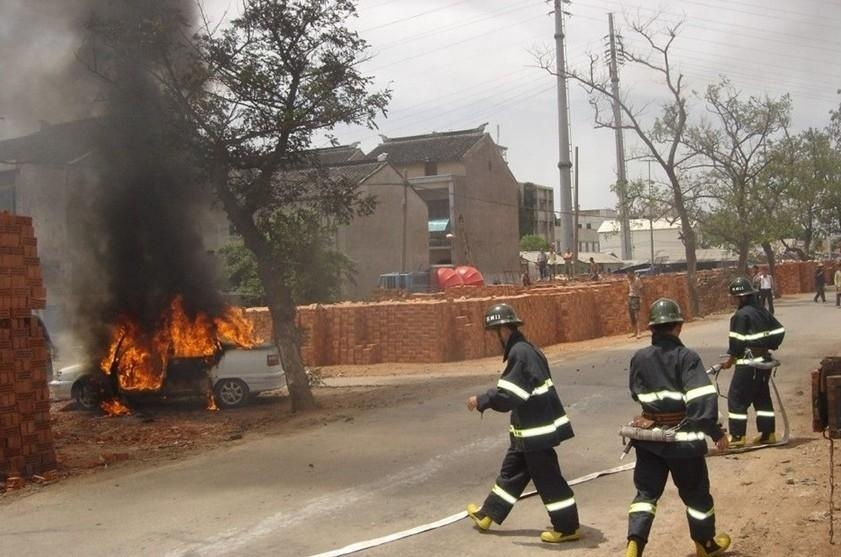fire: (96, 296, 271, 403)
